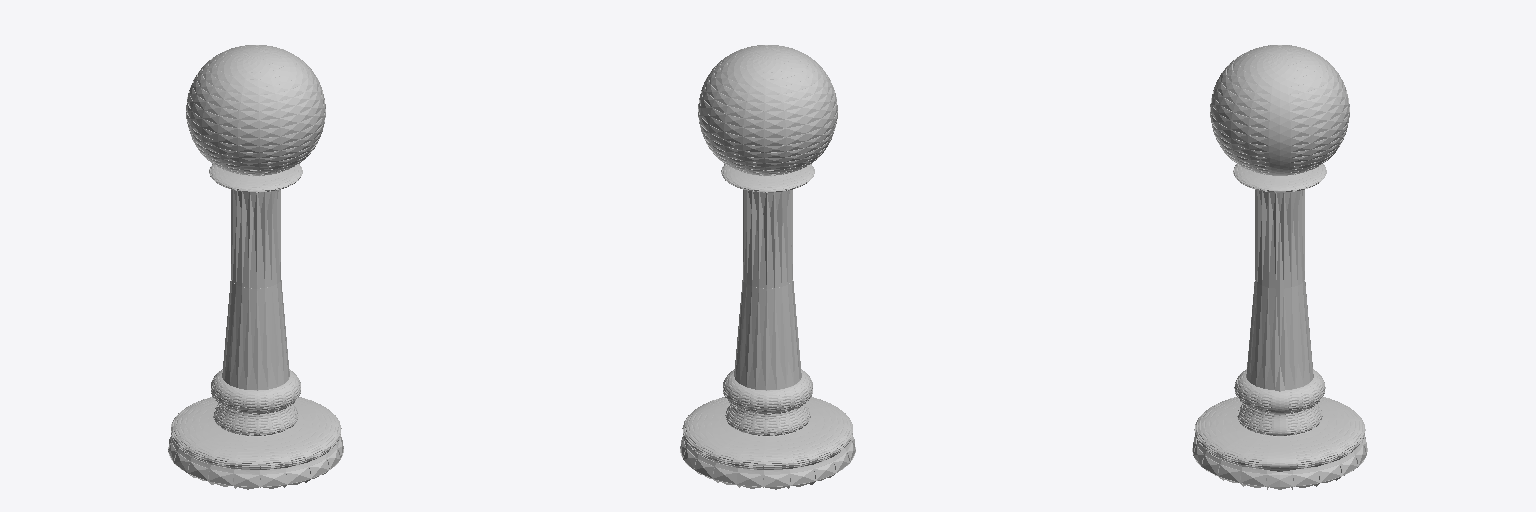
Rendered from blackPawn.obj.
The picture shows the model from 3 angles: view 1: azimuth 30°, elevation 25°; view 2: azimuth 150°, elevation 25°; view 3: azimuth 270°, elevation 25°; orthographic projection.
Parts seen in each view (by area): view 1: Curve_004; view 2: Curve_004; view 3: Curve_004.
Part boxes in pixels (bbox=[...]): Curve_004: bbox=[168, 45, 343, 489]; Curve_004: bbox=[680, 45, 855, 489]; Curve_004: bbox=[1192, 45, 1367, 489].
Bounding box in the file's own units: 0.0079 × 0.0202 × 0.0079.